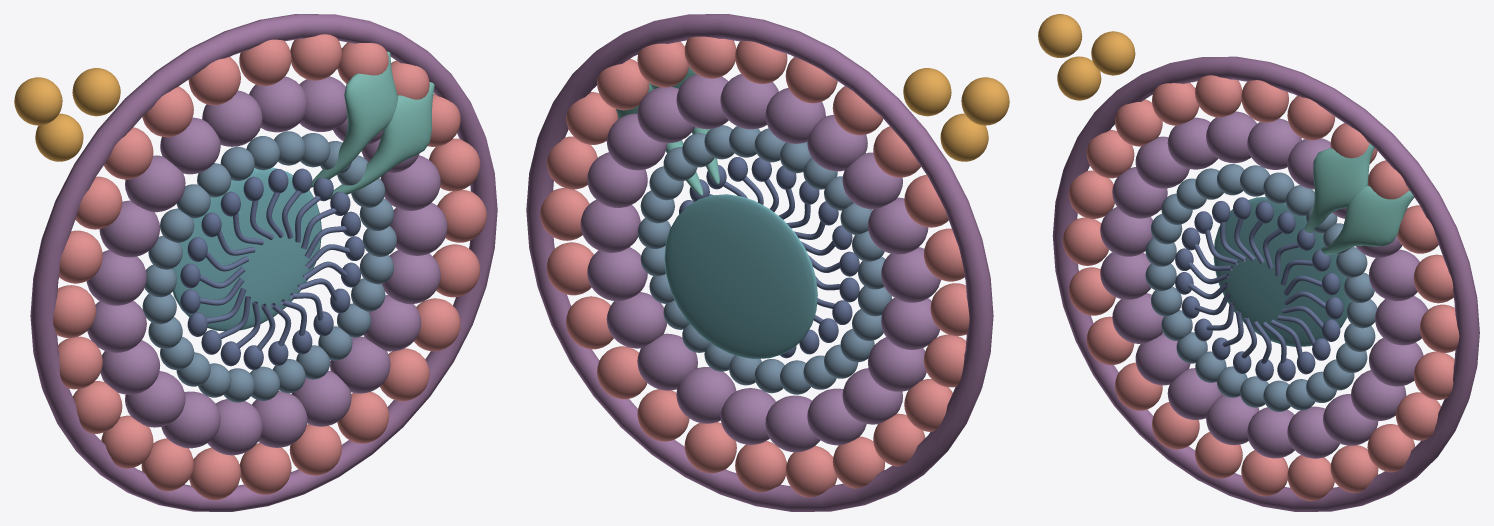
Rendered from seminiferous-tubule.glb.
The picture shows the model from 3 angles, left to right: view 1: azimuth 30°, elevation 25°; view 2: azimuth 150°, elevation 25°; view 3: azimuth 330°, elevation 25°; orthographic projection. The views are drawn at different scales.
Parts seen in each view (by area): view 1: spermatogonia, spermatocytes, basement_membrane, spermatids, spermatozoa, lumen, sustentacular_cells, interstitial_cells; view 2: spermatocytes, spermatogonia, basement_membrane, lumen, spermatids, spermatozoa, interstitial_cells, sustentacular_cells; view 3: spermatogonia, spermatocytes, basement_membrane, spermatids, spermatozoa, lumen, sustentacular_cells, interstitial_cells.
Boxes of the visible parts, x1=… form: spermatogonia: x1=53, y1=34, x2=486, y2=500; spermatocytes: x1=86, y1=76, x2=447, y2=455; basement_membrane: x1=30, y1=14, x2=497, y2=511; spermatids: x1=142, y1=131, x2=396, y2=402; spermatozoa: x1=180, y1=168, x2=364, y2=369; lumen: x1=172, y1=167, x2=321, y2=331; sustentacular_cells: x1=311, y1=51, x2=434, y2=199; interstitial_cells: x1=14, y1=68, x2=120, y2=161; spermatocytes: x1=580, y1=74, x2=940, y2=452; spermatogonia: x1=540, y1=36, x2=969, y2=497; basement_membrane: x1=526, y1=14, x2=993, y2=511; lumen: x1=664, y1=194, x2=817, y2=359; spermatids: x1=637, y1=125, x2=891, y2=394; spermatozoa: x1=679, y1=157, x2=859, y2=358; interstitial_cells: x1=903, y1=68, x2=1009, y2=161; sustentacular_cells: x1=616, y1=67, x2=719, y2=195; spermatogonia: x1=1062, y1=75, x2=1459, y2=501; spermatocytes: x1=1100, y1=111, x2=1427, y2=458; basement_membrane: x1=1052, y1=56, x2=1479, y2=511; spermatids: x1=1145, y1=164, x2=1377, y2=411; spermatozoa: x1=1175, y1=197, x2=1343, y2=381; lumen: x1=1213, y1=196, x2=1351, y2=346; sustentacular_cells: x1=1304, y1=144, x2=1414, y2=255; interstitial_cells: x1=1038, y1=14, x2=1135, y2=100.
Bounding box in the file's own units: 2.06 × 2 × 0.3337.
